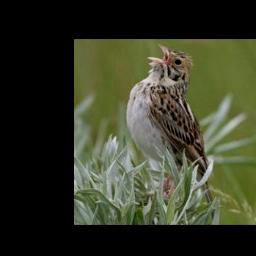Sparrow: (125, 44, 216, 219)
